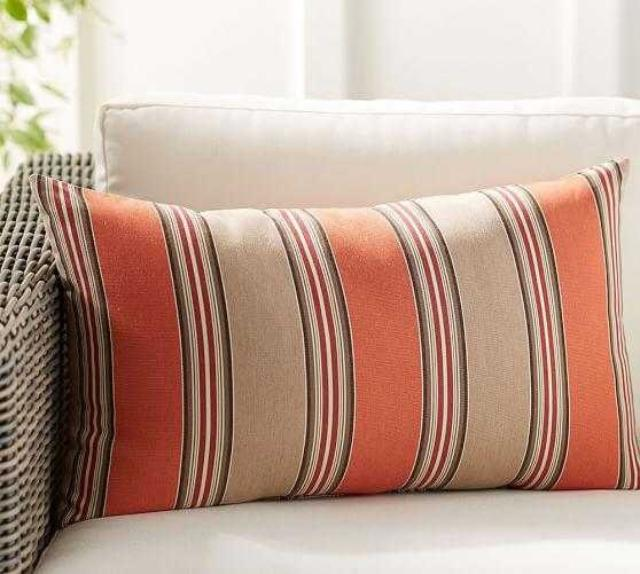pillow: (27, 154, 638, 530)
